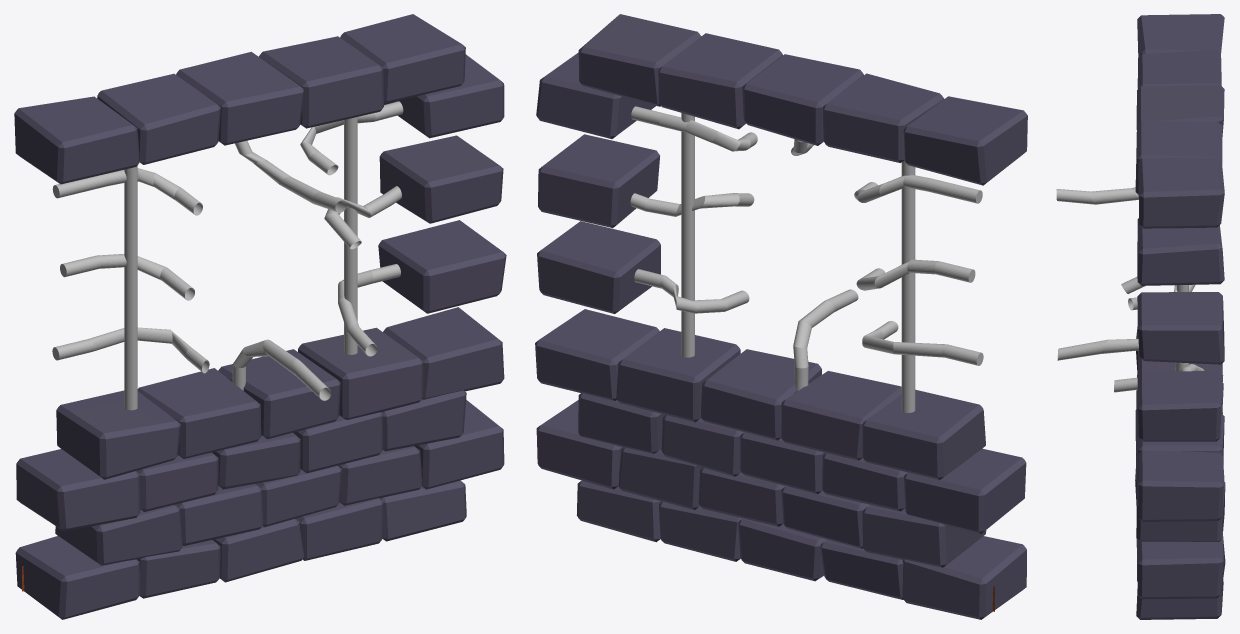
The model's file is BrickWindowOpen.glb.
3 renders of one model, left to right at view 1: azimuth 30°, elevation 25°; view 2: azimuth 150°, elevation 25°; view 3: azimuth 270°, elevation 25°, orthographic. The views are drawn at different scales.
Visible parts, largest first — view 1: Cube, Cube.004, Cube.003, Cylinder, Cylinder.002, Cylinder.008, Cylinder.009, Cylinder.006, Cylinder.007, Cylinder.001, Cylinder.004, Cylinder.005 (+1 smaller); view 2: Cube, Cube.004, Cube.003, Cylinder, Cylinder.002, Cylinder.008, Cylinder.009, Cylinder.006, Cylinder.005, Cylinder.007, Cylinder.004, Cylinder.010; view 3: Cube.004, Cube.003, Cube, Cylinder.006, Cylinder.001, Cylinder.004.
Part boxes in pixels (box(x1,y1,x2,y2)): Cube: box(15, 307, 504, 619); Cube.004: box(14, 14, 465, 184); Cube.003: box(378, 54, 506, 313); Cylinder: box(124, 166, 137, 410); Cylinder.002: box(344, 117, 357, 354); Cylinder.008: box(52, 327, 209, 373); Cylinder.009: box(52, 168, 202, 215); Cylinder.006: box(232, 339, 331, 400); Cylinder.007: box(60, 254, 194, 300); Cylinder.001: box(235, 140, 346, 212); Cylinder.004: box(338, 264, 400, 356); Cylinder.005: box(300, 101, 403, 175); Cube: box(535, 309, 1026, 619); Cube.004: box(578, 14, 1027, 185); Cube.003: box(536, 52, 660, 313); Cylinder: box(901, 160, 915, 412); Cylinder.002: box(681, 113, 694, 357); Cylinder.008: box(862, 321, 983, 365); Cylinder.009: box(854, 175, 982, 203); Cylinder.006: box(793, 289, 858, 391); Cylinder.005: box(631, 106, 757, 151); Cylinder.007: box(856, 259, 975, 290); Cylinder.004: box(634, 269, 749, 313); Cylinder.010: box(630, 193, 754, 216); Cube.004: box(1135, 14, 1224, 228); Cube.003: box(1137, 218, 1224, 441); Cube: box(1135, 324, 1225, 619); Cylinder.006: box(1057, 338, 1176, 371); Cylinder.001: box(1056, 187, 1138, 204); Cylinder.004: box(1114, 364, 1204, 392).
Bounding box in the file's own units: 2.22 × 2.27 × 0.8016.
Materials: 6 (2 with a texture image).
